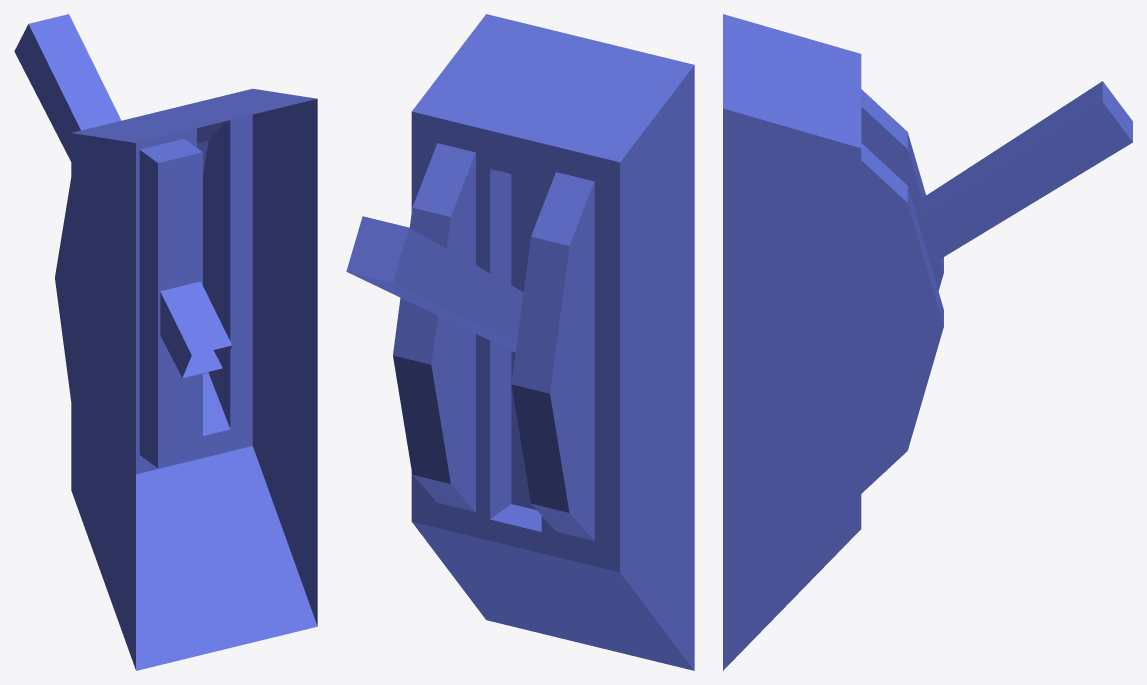
Rendered from Lever.fbx.
3 views of the same model, side by side, from view 1: azimuth 30°, elevation 25°; view 2: azimuth 150°, elevation 25°; view 3: azimuth 270°, elevation 25° (orthographic). The views are drawn at different scales.
Visible parts, largest first — view 1: Lever, Lever Stick; view 2: Lever, Lever Stick; view 3: Lever, Lever Stick.
Part boxes in pixels (x1=…): Lever: x1=55, y1=88, x2=317, y2=670; Lever Stick: x1=14, y1=14, x2=232, y2=377; Lever: x1=393, y1=14, x2=694, y2=670; Lever Stick: x1=346, y1=216, x2=523, y2=352; Lever: x1=723, y1=14, x2=943, y2=670; Lever Stick: x1=913, y1=81, x2=1132, y2=264.
Bounding box in the file's own units: 10.8 × 30.02 × 19.83.
